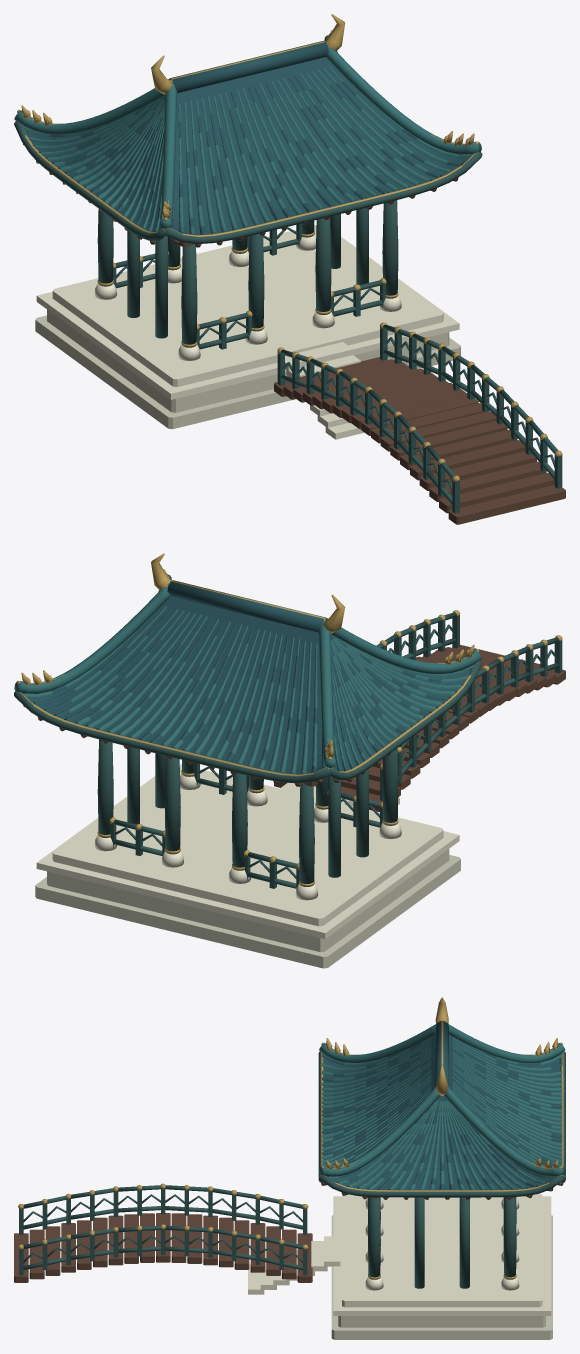
The model's file is ferry.glb.
3 renders of one model, top to bottom at view 1: azimuth 30°, elevation 25°; view 2: azimuth 150°, elevation 25°; view 3: azimuth 270°, elevation 25°, orthographic. The views are drawn at different scales.
Parts seen in each view (by area): view 1: Ferry_TileShade, Ferry_StoneCarving, Ferry_Lacquer, Ferry_TileJade, Ferry_Cedar, Ferry_Limestone, Ferry_AgedBronze; view 2: Ferry_StoneCarving, Ferry_TileShade, Ferry_TileJade, Ferry_Lacquer, Ferry_Limestone, Ferry_Cedar, Ferry_AgedBronze; view 3: Ferry_StoneCarving, Ferry_TileJade, Ferry_TileShade, Ferry_Lacquer, Ferry_Cedar, Ferry_Limestone, Ferry_AgedBronze.
Boxes of the visible parts, x1,y1,x2,y2 form: Ferry_TileShade: (24,41,468,235); Ferry_StoneCarving: (36,225,459,439); Ferry_Lacquer: (14,51,562,513); Ferry_TileJade: (14,35,481,234); Ferry_Cedar: (23,144,565,524); Ferry_Limestone: (35,309,460,429); Ferry_AgedBronze: (17,14,562,481); Ferry_StoneCarving: (36,764,459,939); Ferry_TileShade: (27,580,470,774); Ferry_TileJade: (14,574,481,774); Ferry_Lacquer: (14,590,562,888); Ferry_Limestone: (35,849,460,968); Ferry_Cedar: (23,644,565,811); Ferry_AgedBronze: (17,553,562,886); Ferry_StoneCarving: (248,1194,551,1315); Ferry_TileJade: (319,1024,565,1190); Ferry_TileShade: (322,1021,562,1190); Ferry_Lacquer: (19,1051,565,1288); Ferry_Cedar: (14,1182,563,1282); Ferry_Limestone: (331,1215,552,1339); Ferry_AgedBronze: (18,997,563,1279).
Size of the model in its own units: 8.79 by 8.09 by 16.1.
